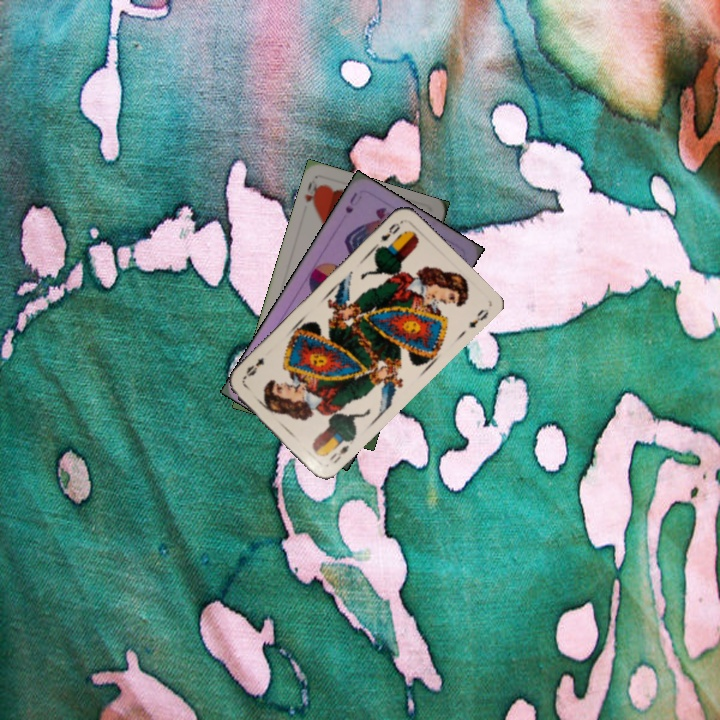EO: (376, 217, 405, 244), (325, 441, 352, 466)
HO: (301, 176, 324, 211)
SU: (341, 188, 365, 216)
